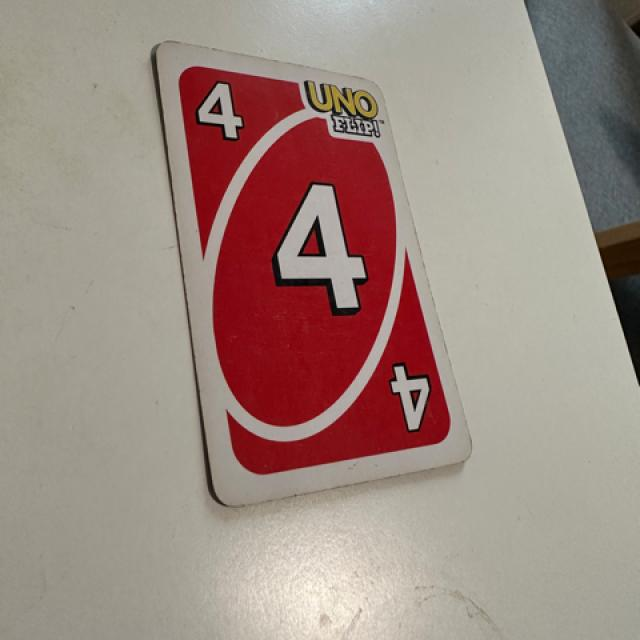lred-4: (180, 65, 263, 160)
